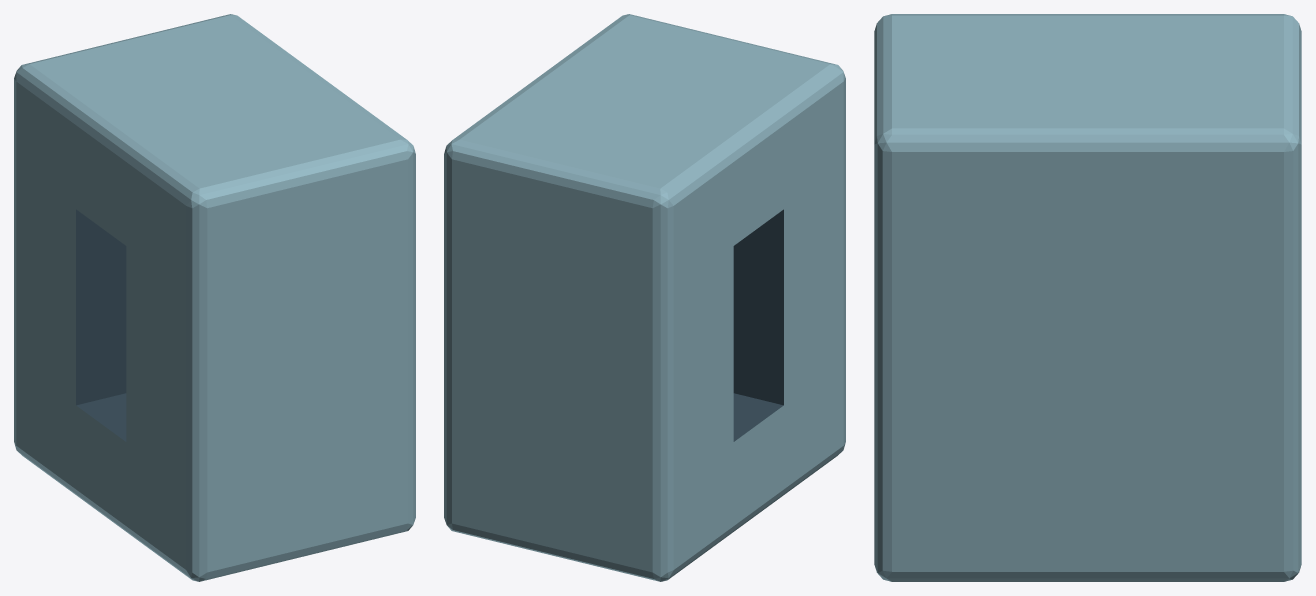
3 renders of one model, left to right at view 1: azimuth 30°, elevation 25°; view 2: azimuth 150°, elevation 25°; view 3: azimuth 270°, elevation 25°, orthographic. The views are drawn at different scales.
Visible parts, largest first — view 1: geometry_0; view 2: geometry_0; view 3: geometry_0.
Part boxes in pixels (x1=…): geometry_0: x1=14, y1=14, x2=415, y2=581; geometry_0: x1=444, y1=14, x2=845, y2=581; geometry_0: x1=874, y1=14, x2=1301, y2=581.
Size of the model in its own units: 0.017 by 0.028 by 0.024.
Materials: 1 (1 with a texture image).
